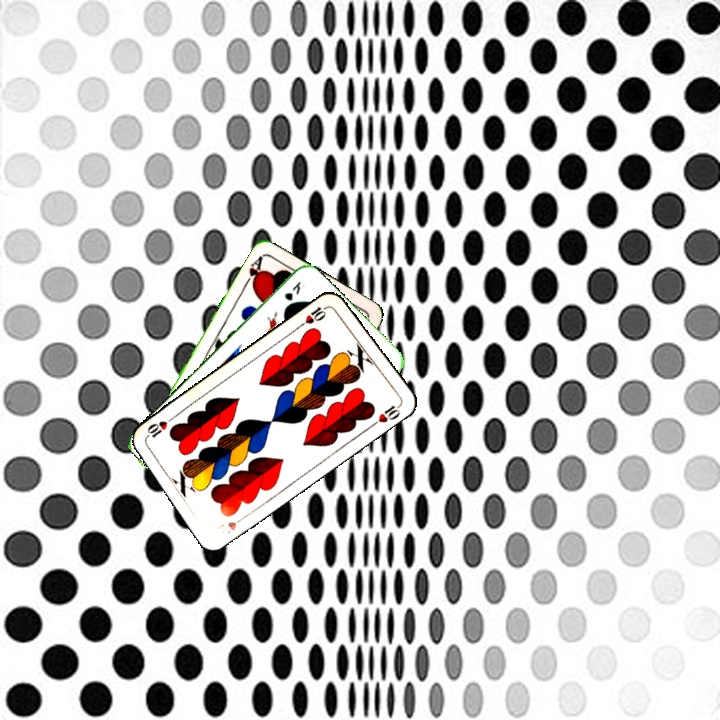GK: (280, 277, 307, 304)
H10: (295, 302, 331, 329), (216, 511, 249, 537)
HA: (240, 251, 266, 290)
